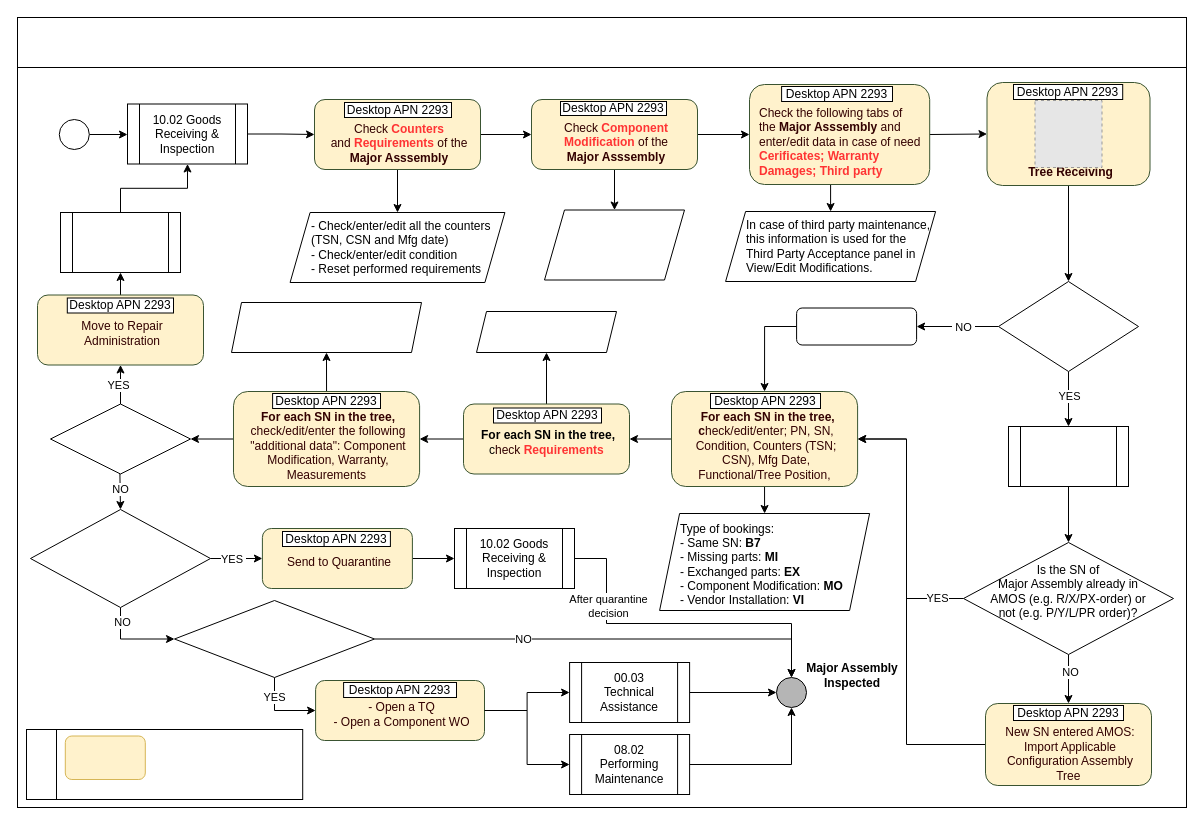
The diagram is 1204 pixels wide and 825 high, and some of its shapes have lost their labels. Grey dashed boxes stand in for pictures. The centre of each missing label's shape, as x and y in pixels:
"- Report Back - Initialize - Deassign - Change Next Due" goes at [614,244].
"- Reset performed requirements" goes at [546,331].
"01.05 Configuration Management" goes at [1068,456].
"09.04 Repair & Exchanges" goes at [120,242].
"10.03 Major Assemblies" goes at [601,42].
"A Configuration exists for the Major Assembly?" goes at [1068,326].
"End" goes at [791,692].
"For Component Modificaiton; Report back, Initialize, Deassign, Change Next Due" goes at [326,327].
"LEGEND" goes at [41,764].
"Major Assembly requires further repairs?" goes at [120,438].
"Other Issues/Actions needed on the Major Assembly?" goes at [274,639].
"Problems requiring Major Assembly to be sent to Quarantine?" goes at [120,558].
"Start" goes at [73,134].
"Technical Receiving" goes at [104,757].
"Use Tree Receiving Method" goes at [856,326].
